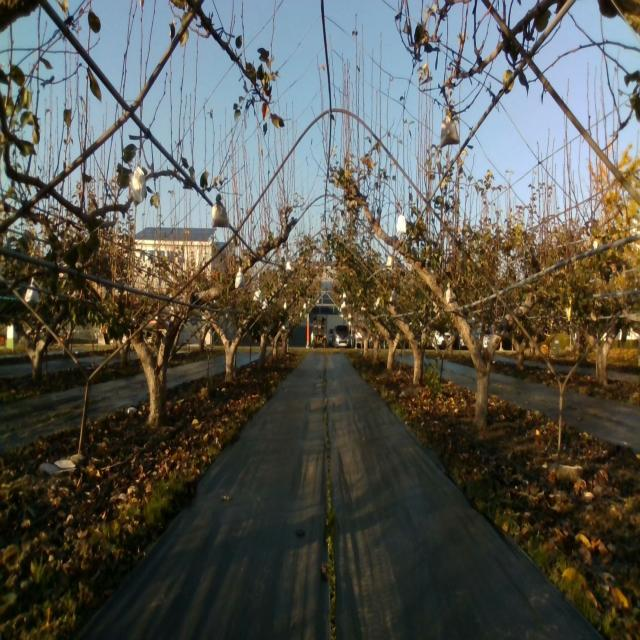pearbags: (212, 193, 230, 229), (440, 117, 461, 147), (132, 165, 146, 202), (236, 265, 247, 289), (396, 215, 406, 233)
